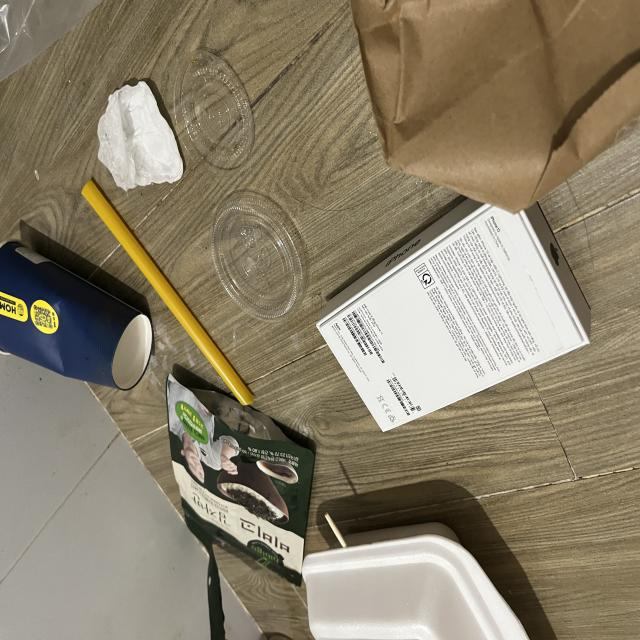bag: (349, 0, 640, 212)
cardboard box: (315, 199, 591, 433)
drinking straw: (80, 178, 257, 408)
foam box: (301, 520, 531, 640)
lid: (212, 188, 310, 324), (184, 49, 256, 171)
napkin: (96, 80, 186, 190)
plastic glass: (0, 240, 153, 392)
snack package: (167, 361, 316, 640)
